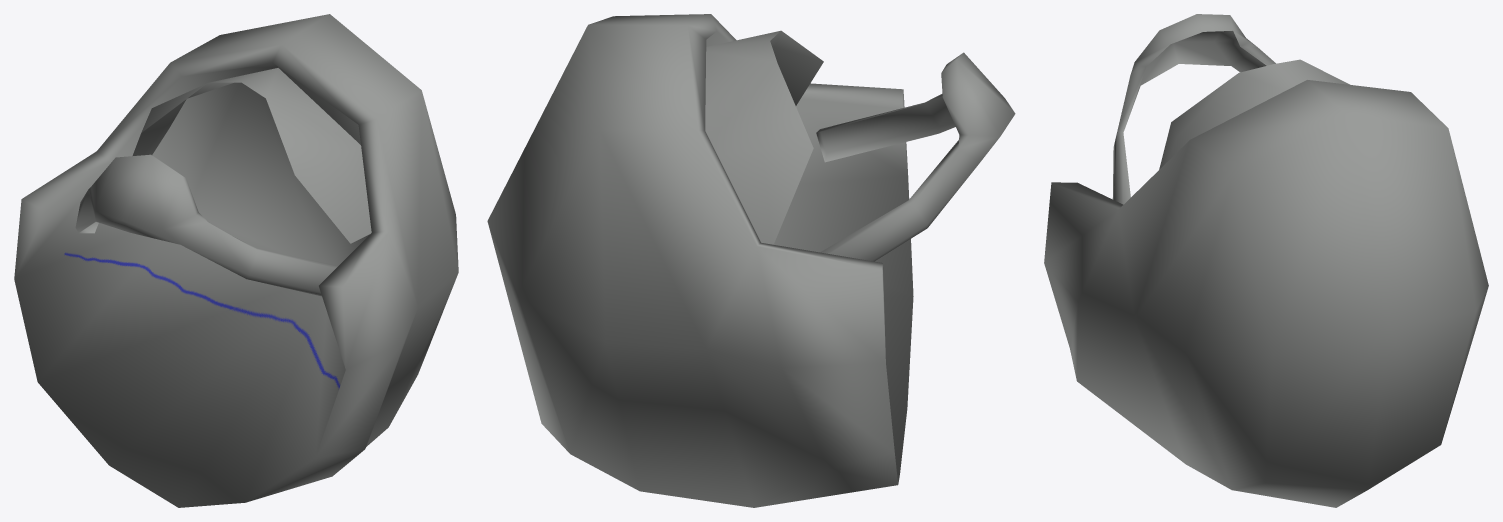
The model's file is helmetLOD3.FBX.
3 renders of one model, left to right at view 1: azimuth 30°, elevation 25°; view 2: azimuth 150°, elevation 25°; view 3: azimuth 270°, elevation 25°, orthographic. The views are drawn at different scales.
Parts seen in each view (by area): view 1: mesh_id6, mesh_id7; view 2: mesh_id6, mesh_id7; view 3: mesh_id6, mesh_id7.
Boxes of the visible parts, x1=… form: mesh_id6: x1=14, y1=14, x2=458, y2=507; mesh_id7: x1=132, y1=68, x2=371, y2=243; mesh_id6: x1=487, y1=14, x2=1015, y2=507; mesh_id7: x1=705, y1=30, x2=823, y2=244; mesh_id6: x1=1044, y1=14, x2=1488, y2=507; mesh_id7: x1=1159, y1=59, x2=1350, y2=169.
Bounding box in the file's own units: 1002 × 1024 × 980.
1 material, 1 textured.
